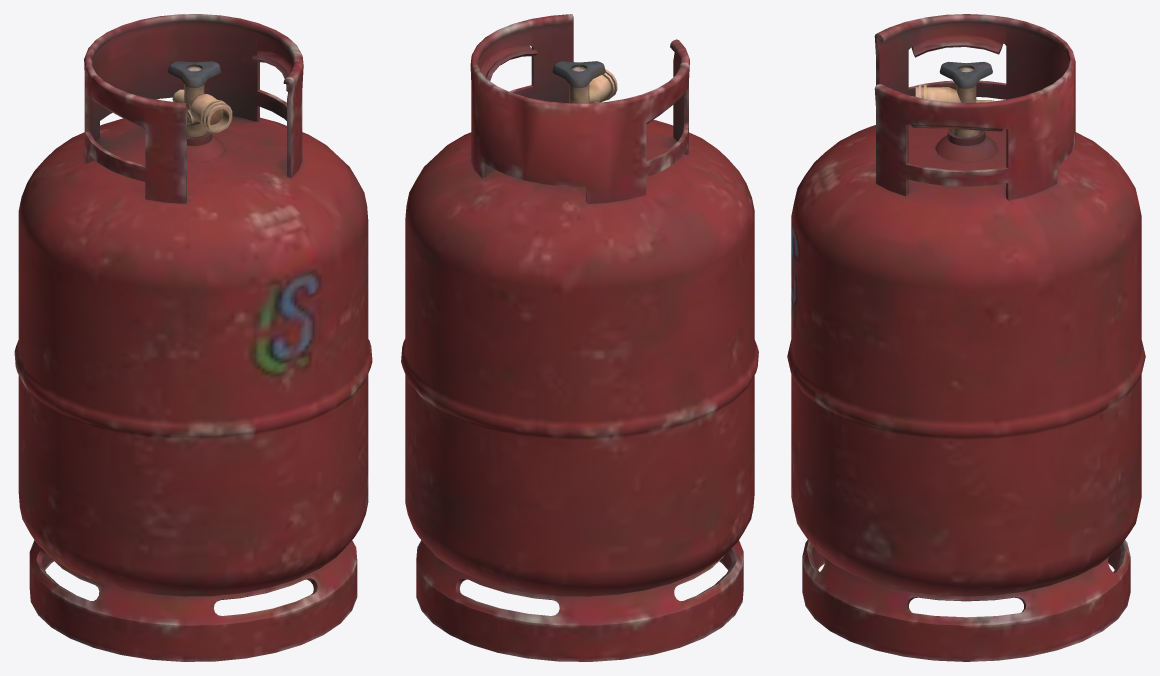
The model's file is propane_tank.glb.
3 views of the same model, side by side, from view 1: azimuth 30°, elevation 25°; view 2: azimuth 150°, elevation 25°; view 3: azimuth 270°, elevation 25° (orthographic).
Parts seen in each view (by area): view 1: propane_tank; view 2: propane_tank; view 3: propane_tank.
Part boxes in pixels (left/top/right/bottom): propane_tank: left=14, top=14, right=372, bottom=661; propane_tank: left=401, top=14, right=758, bottom=661; propane_tank: left=787, top=14, right=1145, bottom=661.
Bounding box in the file's own units: 0.3374 × 0.5538 × 0.3374.
1 material, 1 textured.
